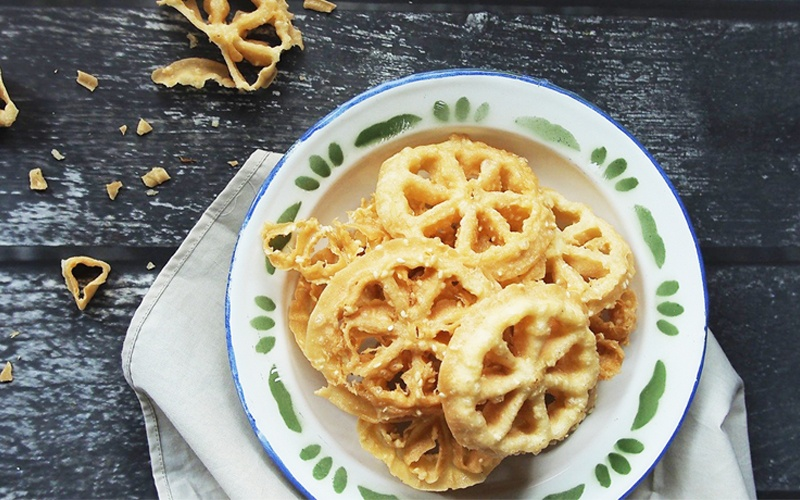kembang_goyang: (433, 291, 597, 460)
